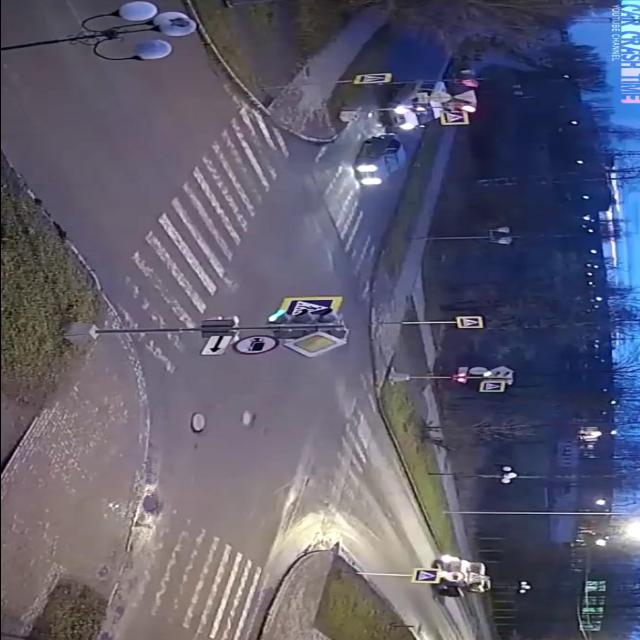non_accident: (345, 74, 457, 194)
